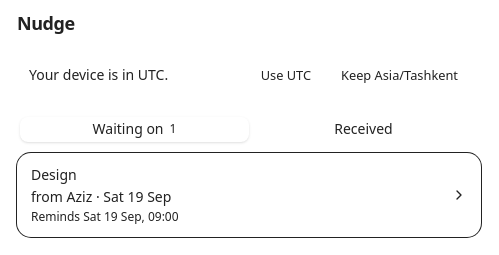
asks for received items when that tab is chosen
Press the mouse on the tab "Received" at [364, 129], box [249, 116, 478, 142]
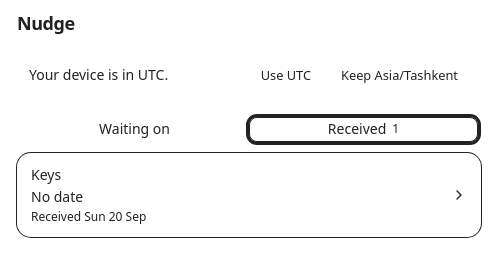
Result: the button "Keys No date Received Sun 20 Sep" is shown at [17, 153, 481, 237]
